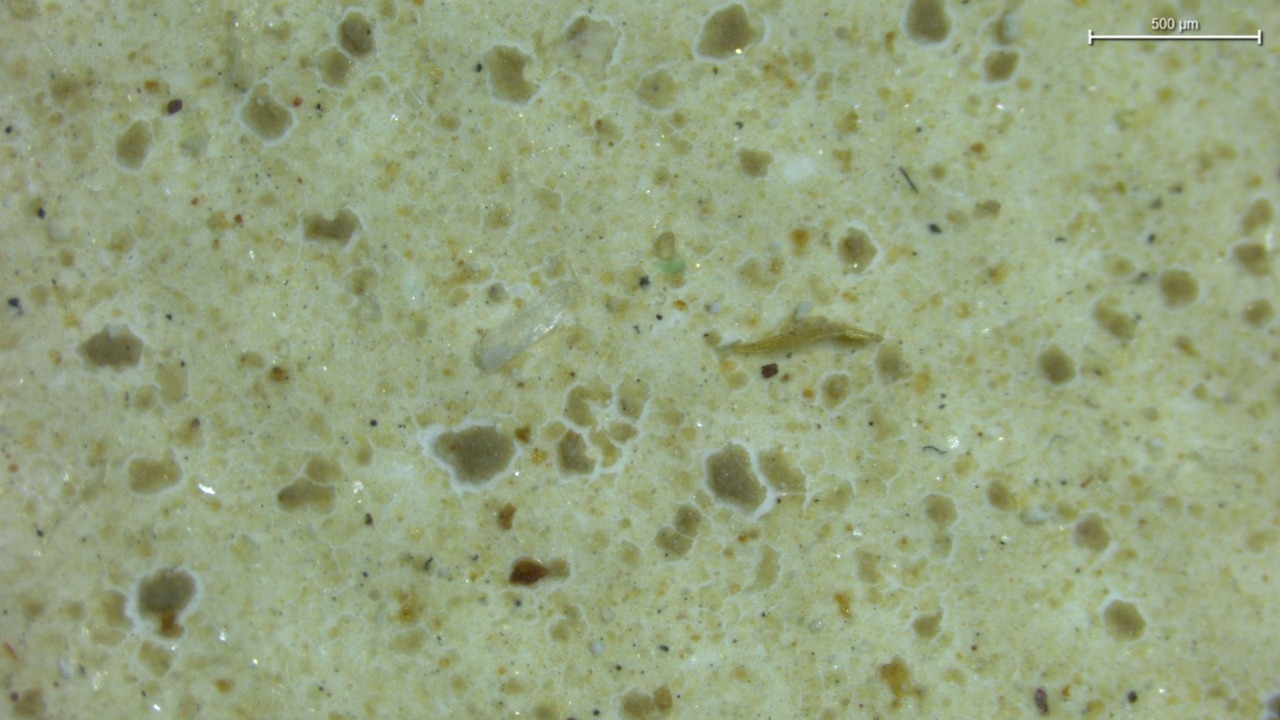microplastic_fragment: (476, 282, 574, 371)
